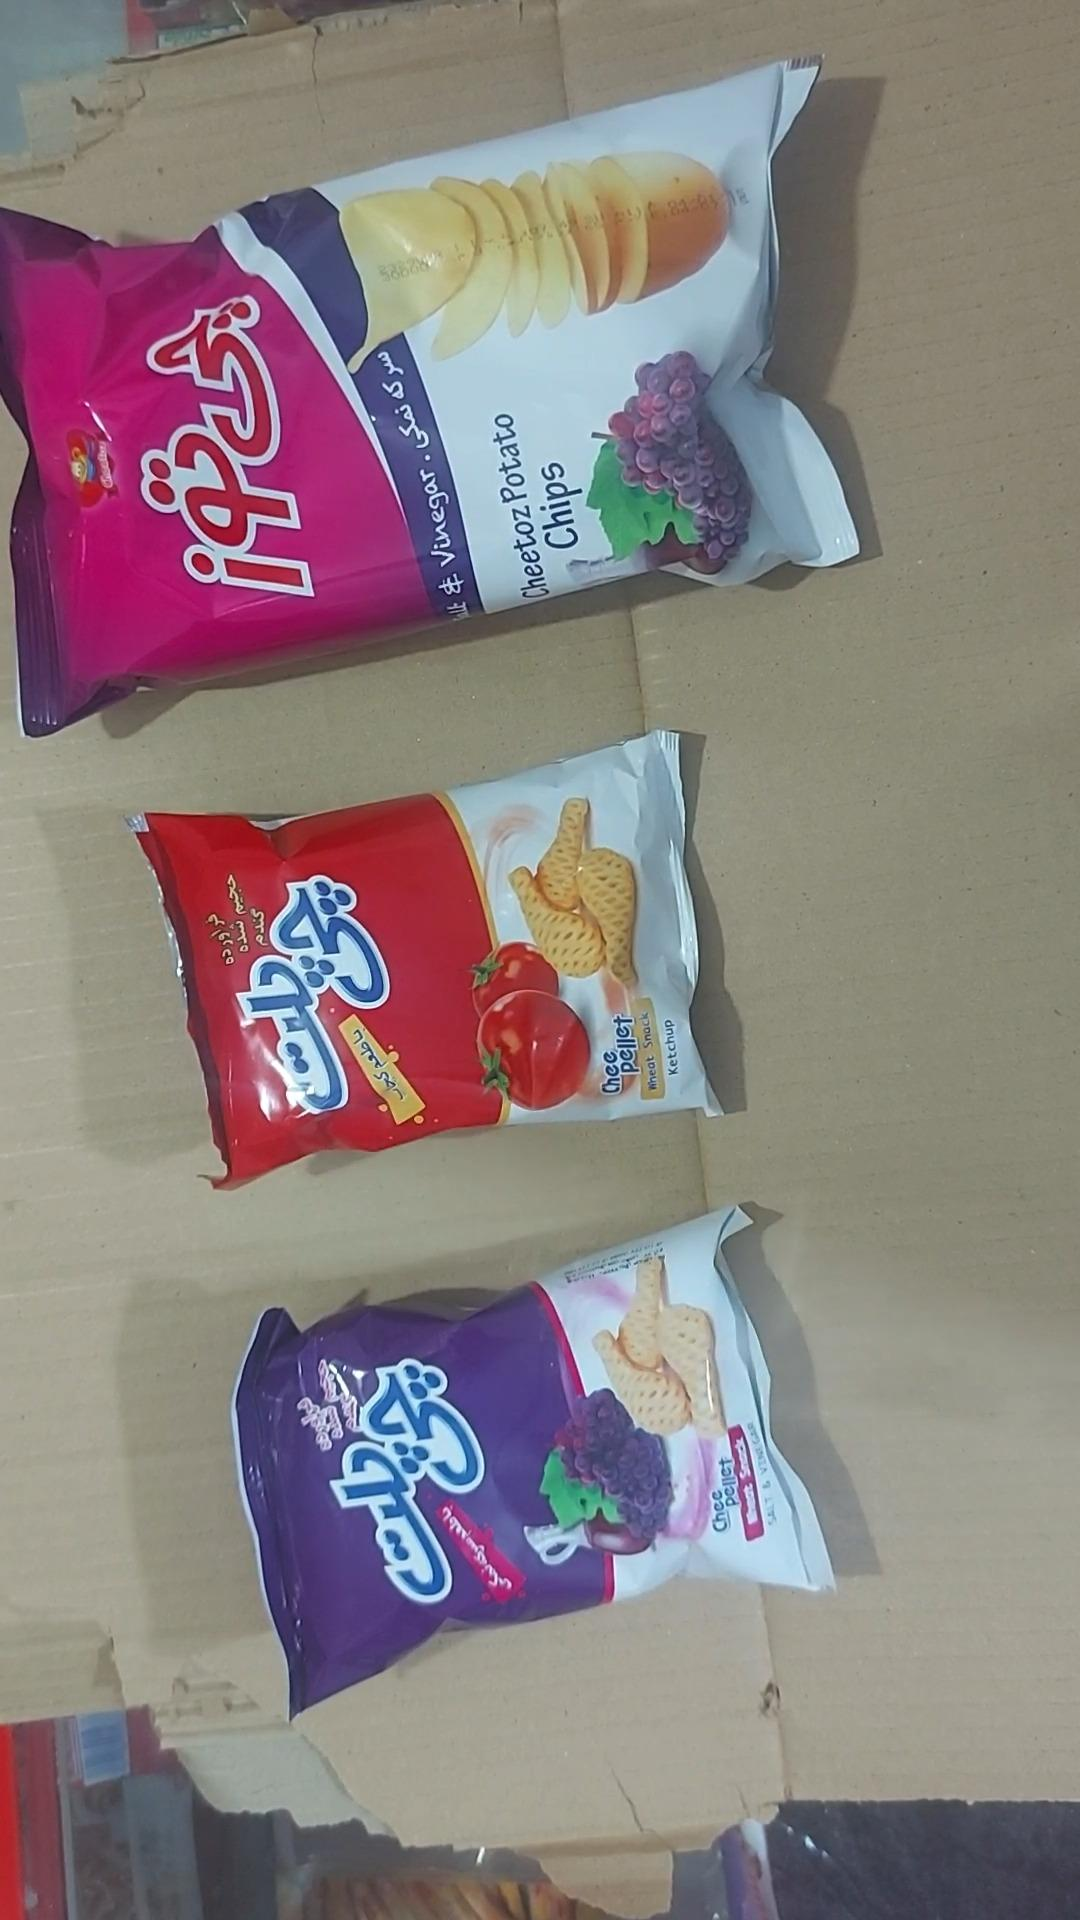Chee pellet ketchup: (127, 732, 717, 1193)
Chee pellet vinegar: (229, 1205, 837, 1720)
Cheetoz vinegar chips: (0, 61, 860, 741)
